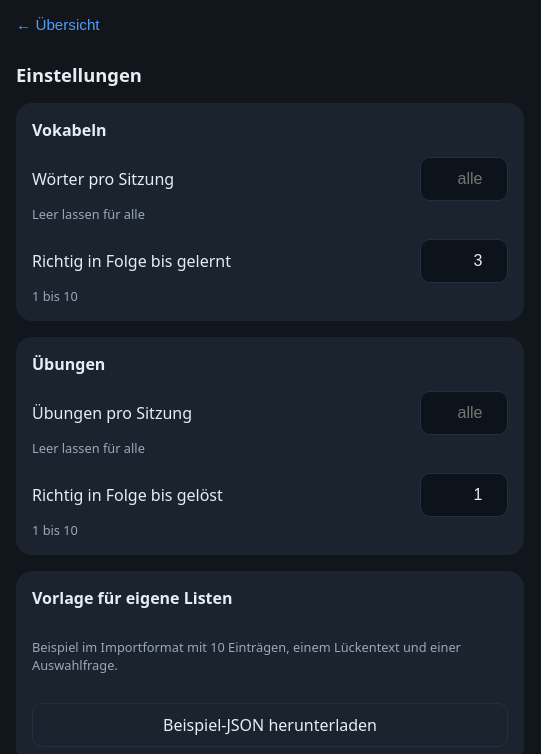
Test: SettingsView › übernimmt eine Schwelle von 11 nicht und zeigt wieder den gültigen Wert
Replace the text in the number field labelled "Richtig in Folge bis gelernt" with "11": x=464, y=261 [420, 239, 508, 283]
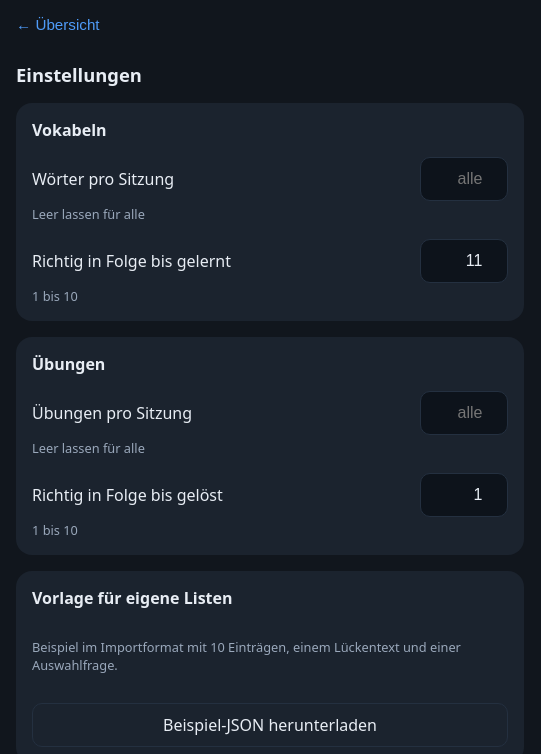
Leave the number field labelled "Richtig in Folge bis gelernt", box [420, 239, 508, 283]
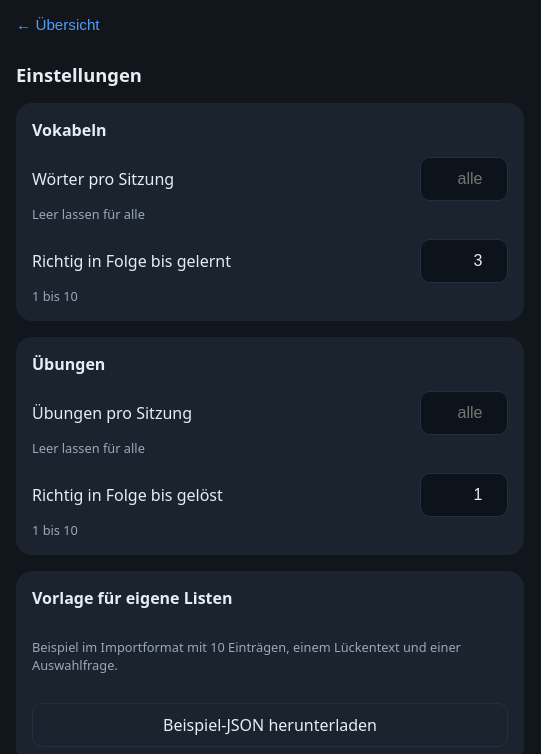
Result: the number field labelled "Richtig in Folge bis gelernt" holds "3" at [420, 239, 508, 283]
